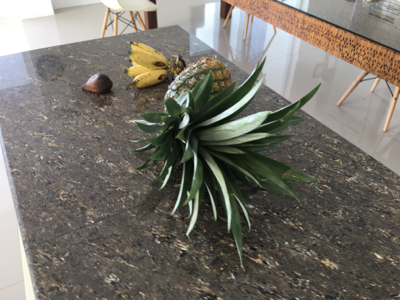banana: (127, 39, 182, 88)
pineapple: (131, 57, 321, 258)
snake fruit: (82, 74, 113, 95)
